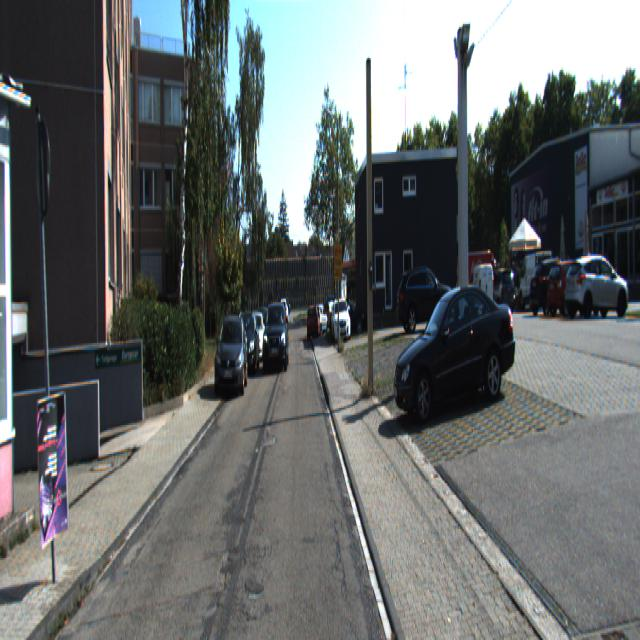Car: (390, 264, 526, 422), (562, 252, 632, 321), (395, 261, 455, 336), (544, 258, 610, 322), (528, 256, 592, 319), (213, 309, 249, 398), (230, 310, 261, 379), (261, 304, 290, 377), (519, 247, 552, 310), (484, 264, 517, 313), (466, 262, 495, 317), (331, 298, 351, 344), (306, 305, 321, 342)
